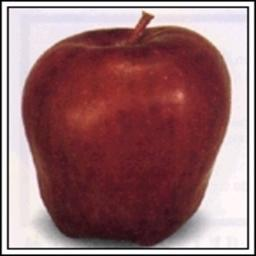apple: (22, 22, 232, 244)
